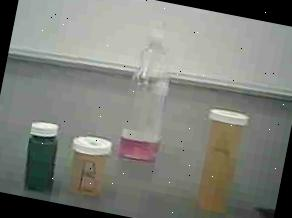Bottle A: (188, 106, 251, 218)
Bottle B: (61, 131, 114, 204)
Bottle C: (17, 116, 66, 196)
hazard: (114, 15, 188, 171)
